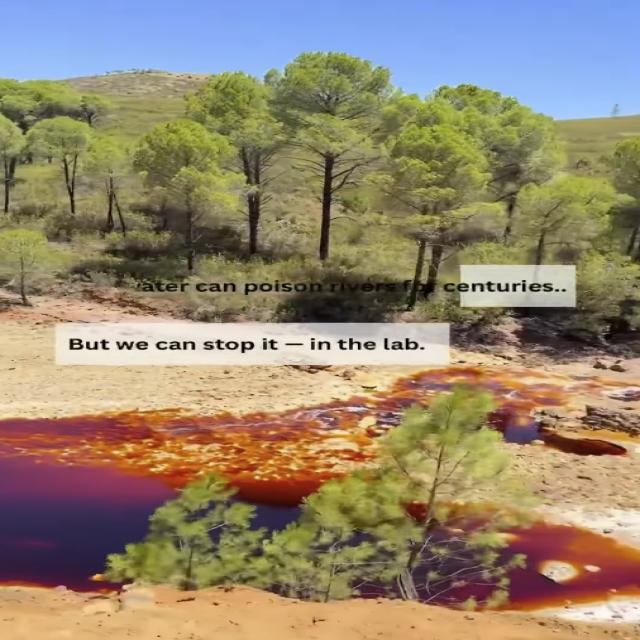yellow_boy: (1, 370, 639, 609)
